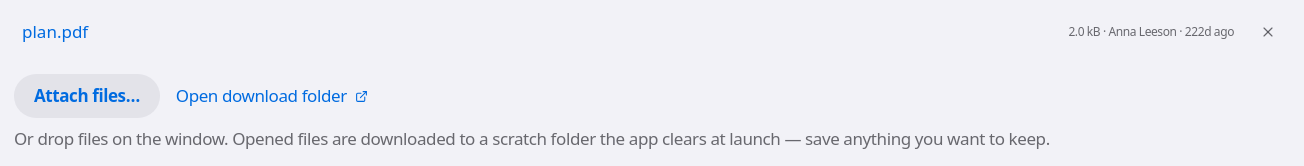
Test: deleting a file › takes two clicks, the second one labelled
Click the button titled "Delete plan.pdf from this issue" at coordinates (1268, 32), box [1246,10,1290,54]
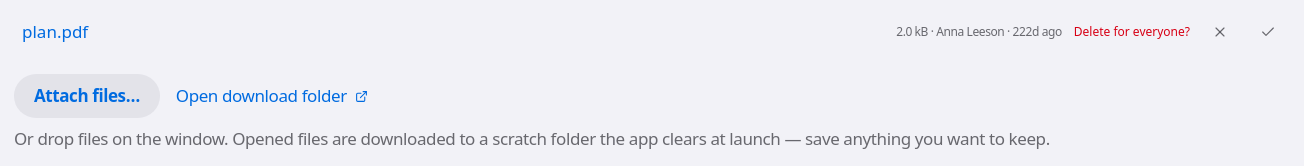
Check: the text "Delete for everyone?" is shown, box [1074,24,1190,40]
